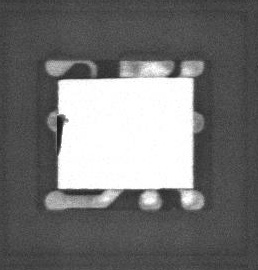DIE_BROKEN: (55, 112, 66, 157)
